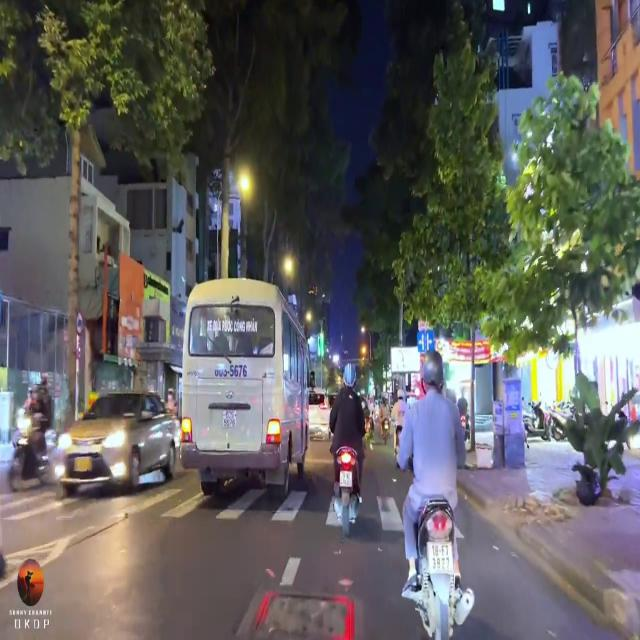bien_trang: (427, 540, 456, 582)
